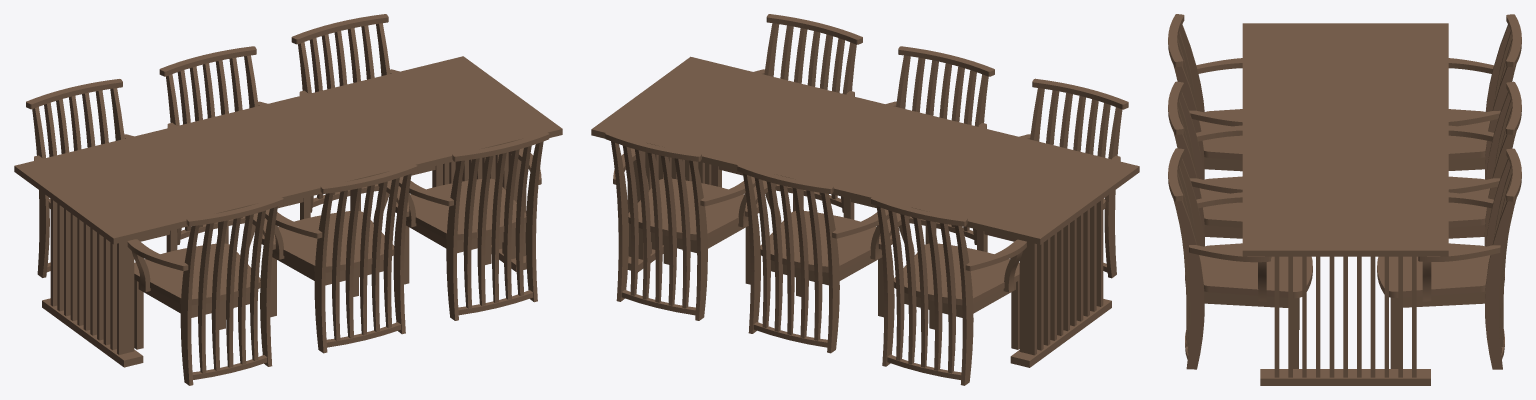
File: 537_ダイニングテーブルセット6人掛け.glb
3 renders of one model, left to right at view 1: azimuth 30°, elevation 25°; view 2: azimuth 150°, elevation 25°; view 3: azimuth 270°, elevation 25°, orthographic. The views are drawn at different scales.
Parts seen in each view (by area): view 1: Body, chair4, chair5, chair6, chair1, chair2, chair3; view 2: Body, chair1, chair2, chair3, chair4, chair5, chair6; view 3: Body, chair3, chair6, chair4, chair5, chair1, chair2.
Part boxes in pixels (x1=…): Body: x1=14, y1=56, x2=562, y2=367; chair4: x1=127, y1=196, x2=283, y2=385; chair5: x1=261, y1=163, x2=417, y2=353; chair6: x1=395, y1=131, x2=549, y2=320; chair1: x1=26, y1=79, x2=177, y2=277; chair2: x1=159, y1=46, x2=310, y2=244; chair3: x1=291, y1=14, x2=442, y2=212; Body: x1=591, y1=56, x2=1139, y2=367; chair1: x1=870, y1=196, x2=1026, y2=385; chair2: x1=737, y1=163, x2=892, y2=353; chair3: x1=605, y1=131, x2=759, y2=320; chair4: x1=977, y1=78, x2=1128, y2=278; chair5: x1=843, y1=46, x2=994, y2=244; chair6: x1=711, y1=14, x2=862, y2=212; Body: x1=1242, y1=23, x2=1448, y2=385; chair3: x1=1377, y1=148, x2=1521, y2=369; chair6: x1=1168, y1=148, x2=1312, y2=369; chair4: x1=1168, y1=14, x2=1242, y2=179; chair5: x1=1168, y1=81, x2=1242, y2=283; chair1: x1=1448, y1=14, x2=1521, y2=179; chair2: x1=1448, y1=81, x2=1521, y2=282.
Bounding box in the file's own units: 2.35 × 0.85 × 1.55.
